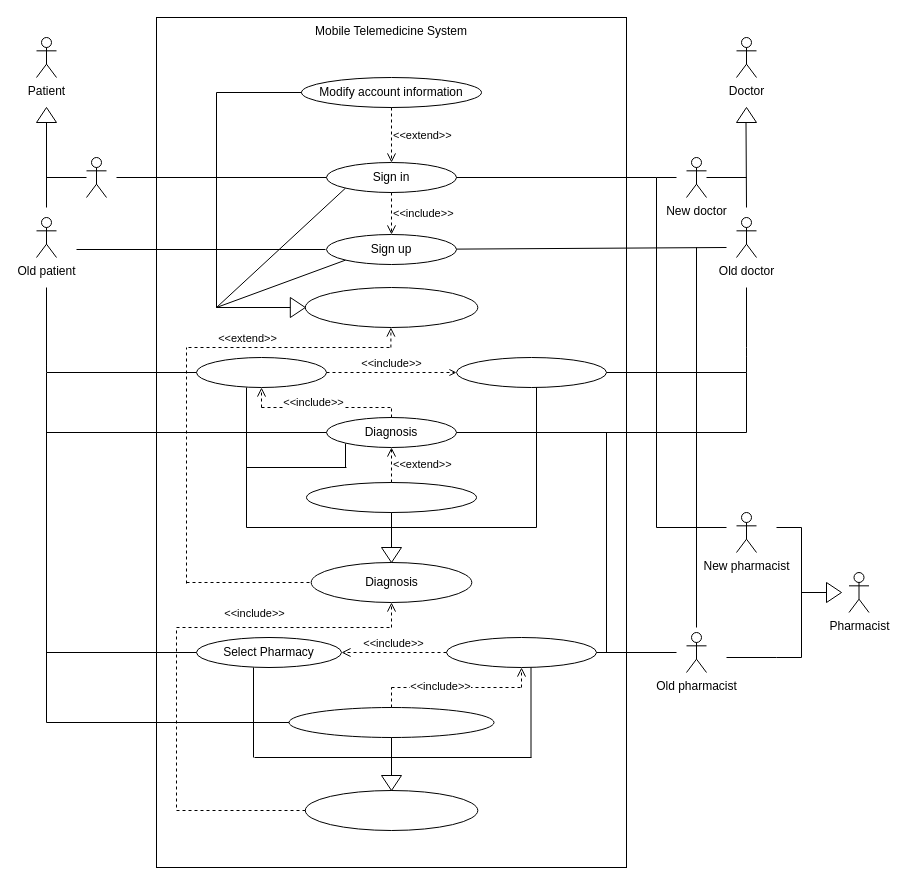
This 906x885 diagram has some shape labels left out. Here are the shapes that lost their labels. From the top down, the centre of each, then its label:
At (96,177): "New patient".
At (391,307): "Account management".
At (261,372): "Reserve Diagnosis".
At (531,372): "Check patient information".
At (391,497): "Video Communication".
At (521,652): "Send Prescription".
At (391,722): "Confirmation of medicine receipt".
At (391,810): "Receipt of medicine".
